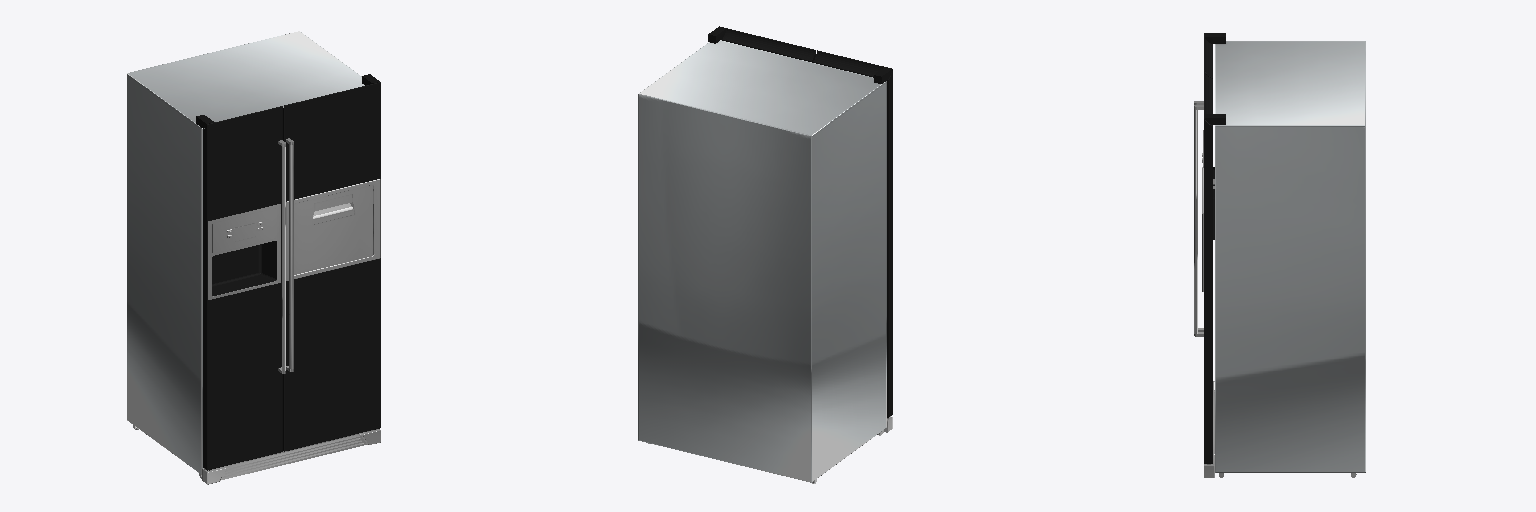
3 renders of one model, left to right at view 1: azimuth 30°, elevation 25°; view 2: azimuth 150°, elevation 25°; view 3: azimuth 270°, elevation 25°, orthographic.
Parts seen in each view (by area): view 1: solid_001, solid_003, solid_002; view 2: solid_003, solid_001; view 3: solid_003, solid_001, solid_002.
Boxes of the visible parts, x1,y1,x2,y2 form: solid_001: [196, 74, 380, 470]; solid_003: [127, 31, 364, 474]; solid_002: [133, 138, 380, 484]; solid_003: [638, 40, 886, 482]; solid_001: [708, 26, 892, 417]; solid_003: [1215, 41, 1365, 472]; solid_001: [1204, 33, 1225, 463]; solid_002: [1194, 101, 1356, 477].
Bounding box in the file's own units: 0.9099 × 1.81 × 0.7812.
Materials: 1 (1 with a texture image).